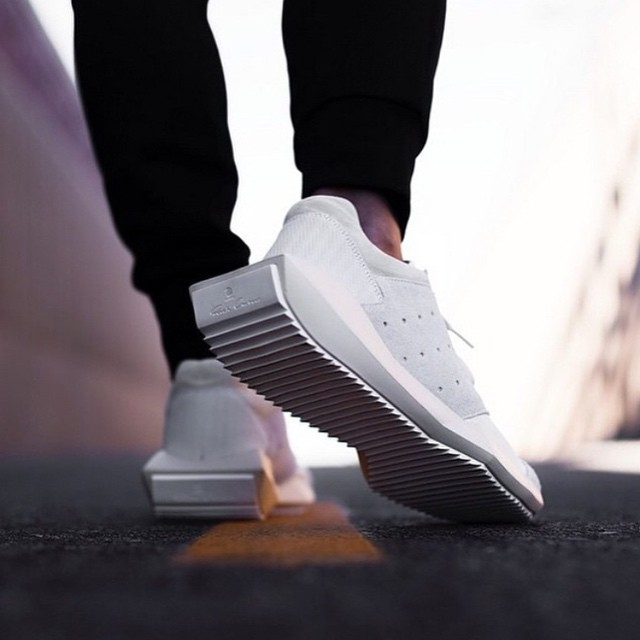sneaker: (178, 178, 565, 547), (132, 305, 335, 534)
